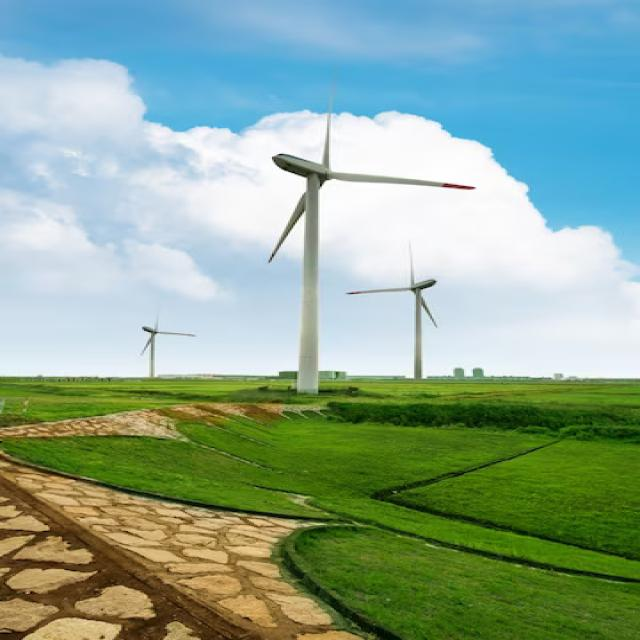solid-blade: (330, 173, 474, 188)
wind-turbine: (270, 111, 471, 393), (347, 245, 437, 379)
